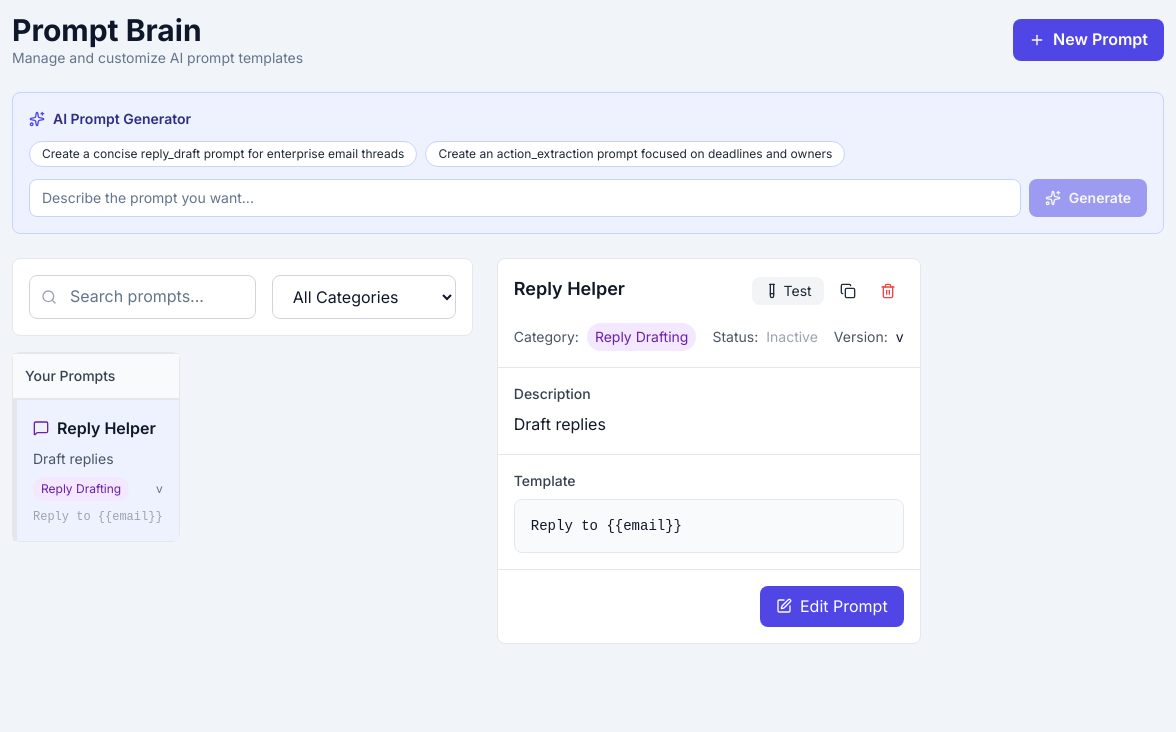
prompt manager › filters prompts by category
Select "Summarization" in the dropdown showing "All Categories" at (364, 297), box [272,275,456,319]
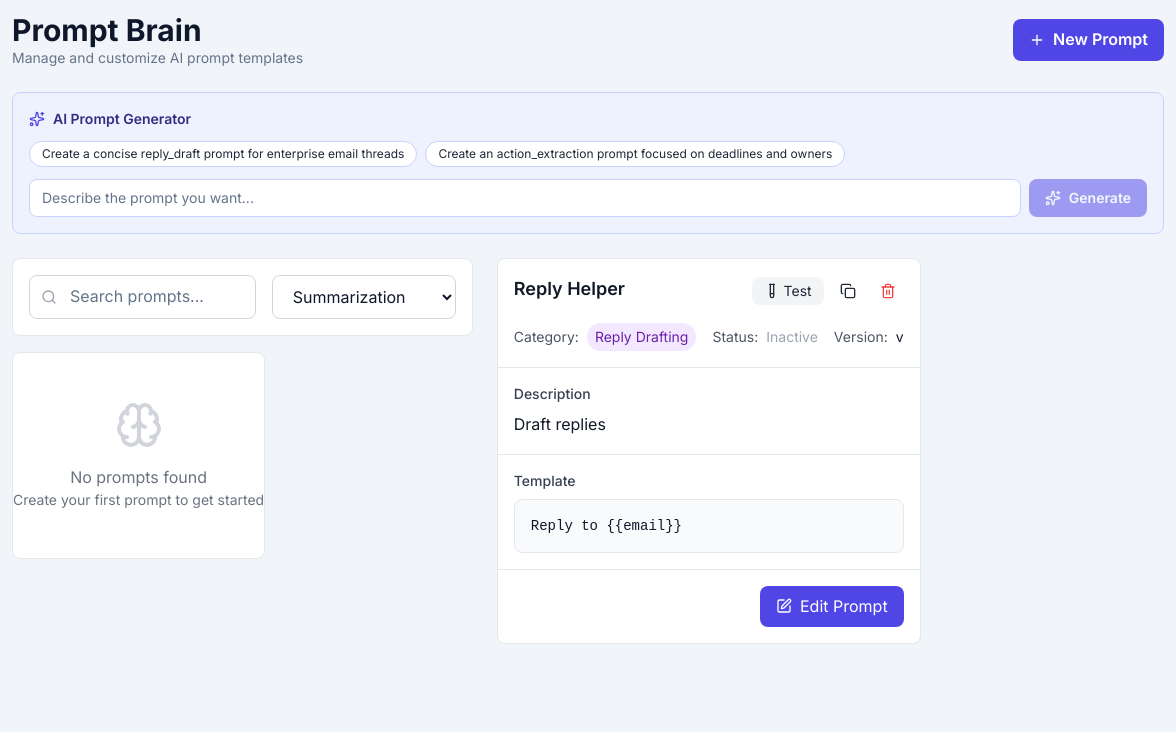
Expected: the text "No prompts found" is shown, [70,467,207,487]
